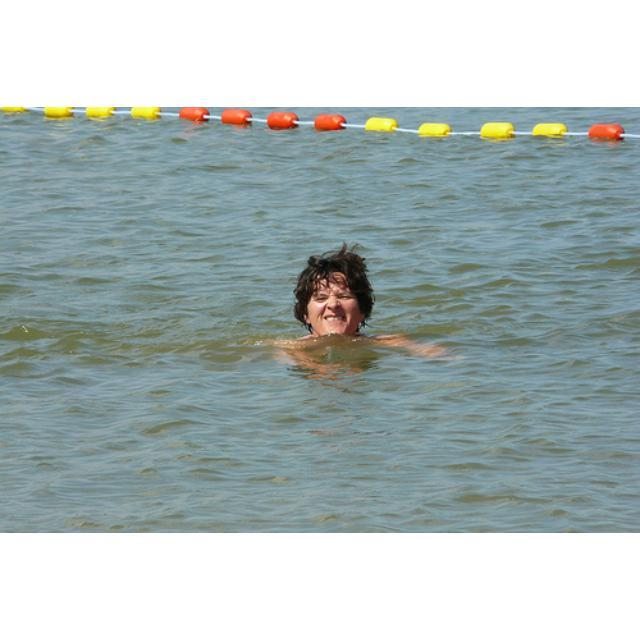human: (273, 246, 449, 362)
